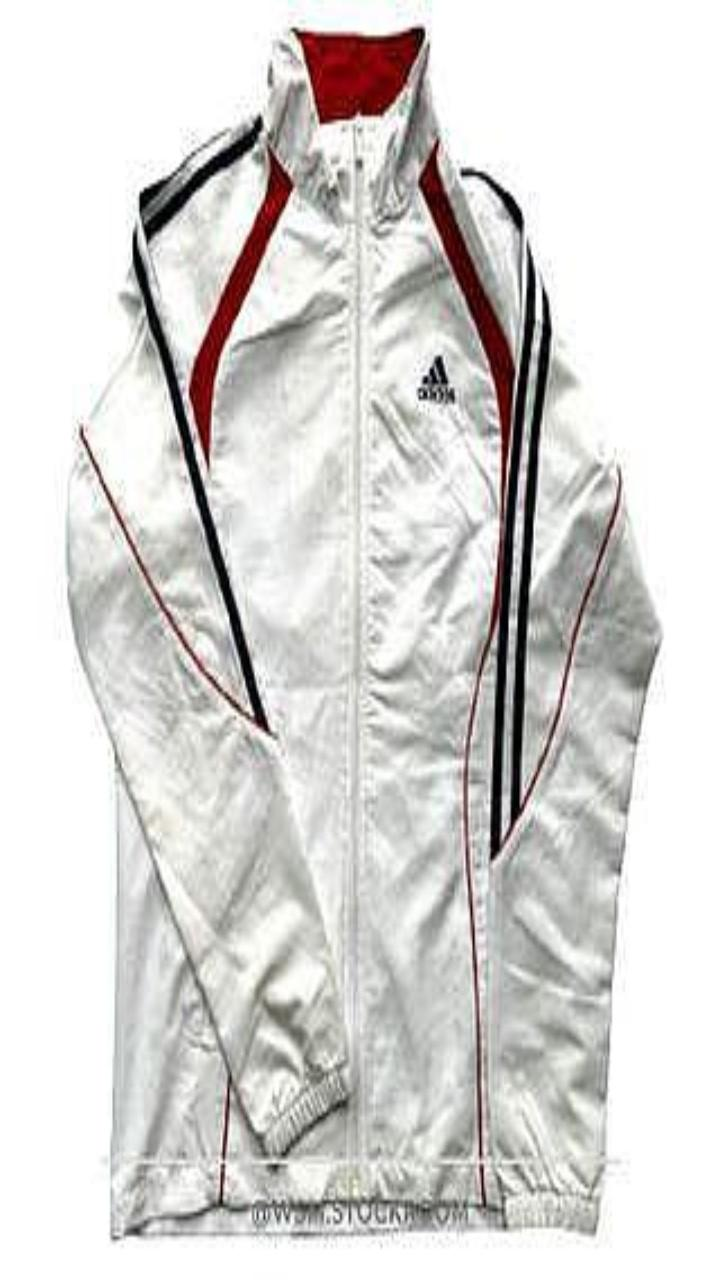Sports_Jacket: (68, 29, 658, 1235)
